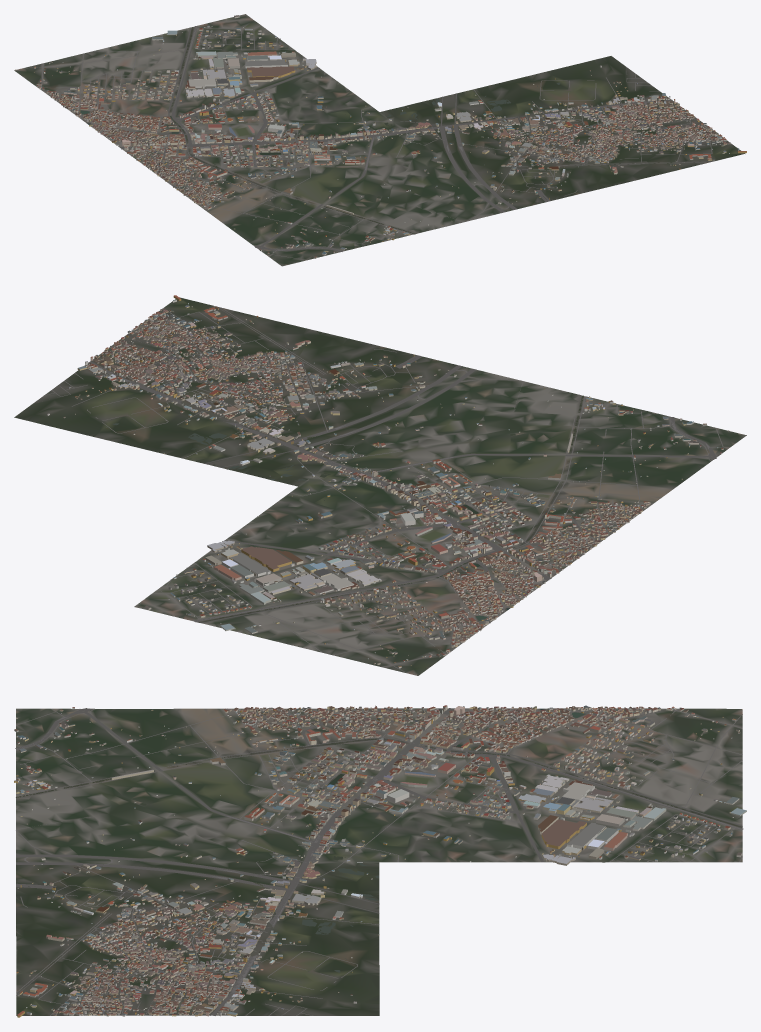
3 views of the same model, one above another, from view 1: azimuth 30°, elevation 25°; view 2: azimuth 150°, elevation 25°; view 3: azimuth 270°, elevation 25° (orthographic). The views are drawn at different scales.
Visible parts, largest first — view 1: ground, buildings, roads, water; view 2: ground, buildings, roads, water; view 3: ground, buildings, roads, water.
Part boxes in pixels (x1,y1,x2,y2): ground: (14,14,744,266); buildings: (15,15,746,262); roads: (26,14,732,260); water: (80,35,560,234); ground: (14,297,746,675); buildings: (47,295,729,675); roads: (44,306,730,671); water: (113,395,583,620); ground: (16,708,742,1015); buildings: (14,705,746,1017); roads: (15,708,743,1015); water: (16,708,721,972).
Bounding box in the file's own units: 2823 × 30.9 × 2828.
